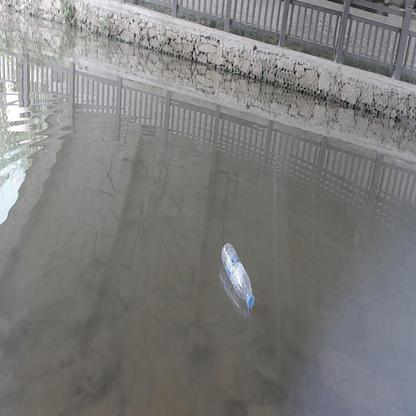plastic bottle: (220, 242, 256, 306)
